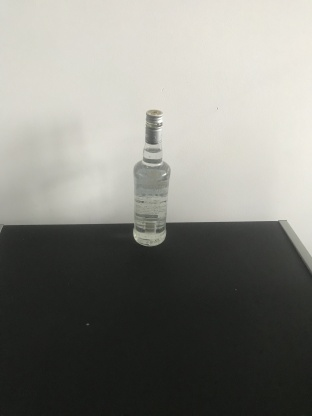nakretka: (144, 108, 163, 144)
